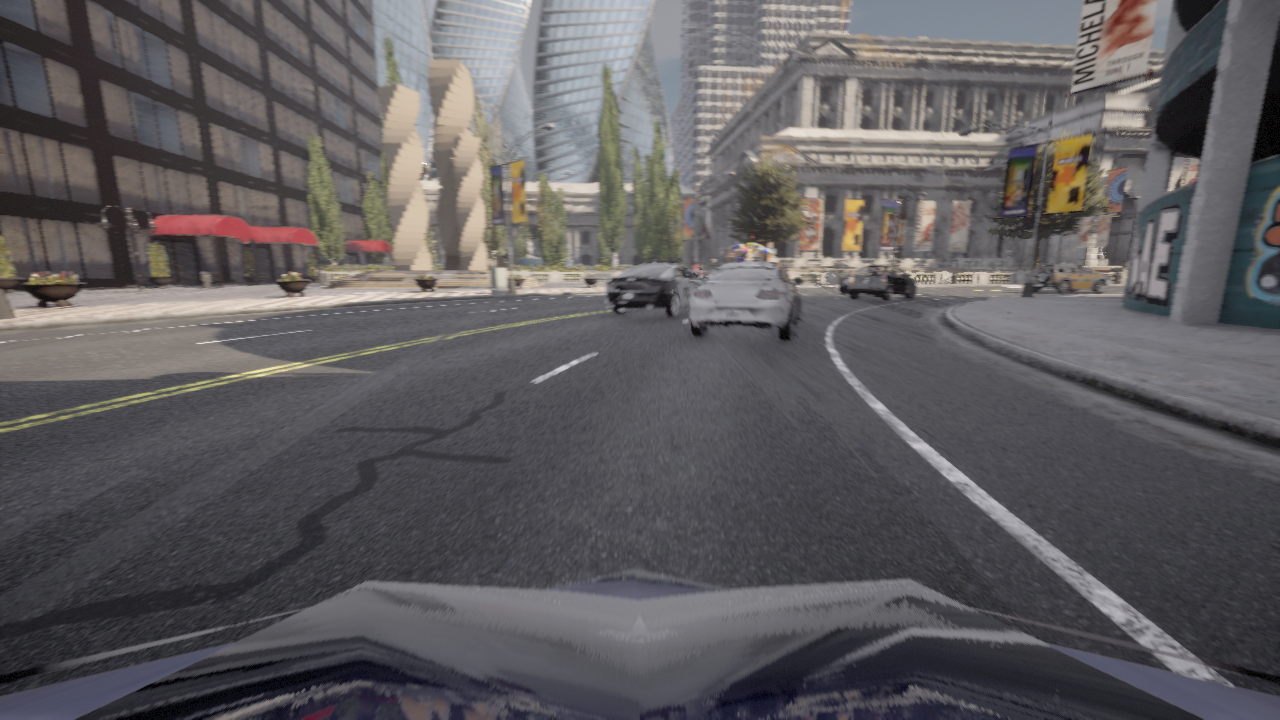cyclist: (0, 569, 1279, 719), (683, 261, 807, 340), (606, 259, 705, 316), (848, 265, 916, 300), (1031, 263, 1110, 293), (838, 269, 858, 293), (1076, 289, 1078, 290)
